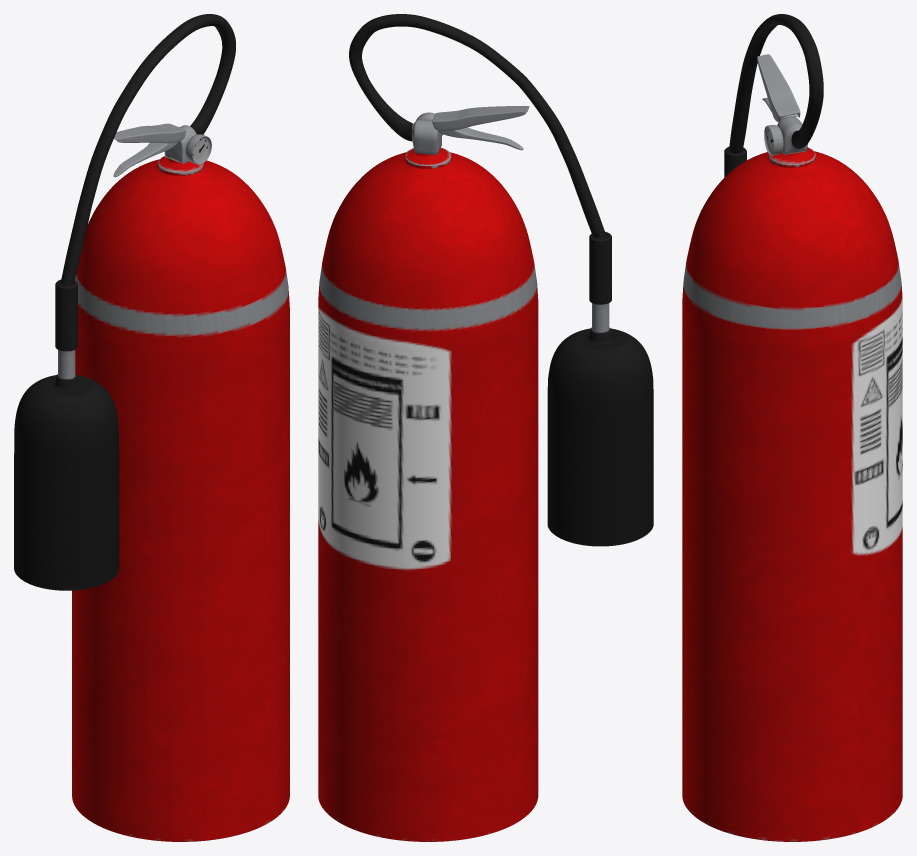
File: extinguisher.fbx
3 views of the same model, side by side, from view 1: azimuth 30°, elevation 25°; view 2: azimuth 150°, elevation 25°; view 3: azimuth 270°, elevation 25° (orthographic).
Parts seen in each view (by area): view 1: pCylinder1; view 2: pCylinder1; view 3: pCylinder1.
Part boxes in pixels (x1,y1,x2,y2): pCylinder1: [14, 14, 289, 841]; pCylinder1: [318, 14, 653, 841]; pCylinder1: [682, 14, 902, 841].
Bounding box in the file's own units: 1.63 × 4.26 × 1.09.
1 material, 1 textured.
